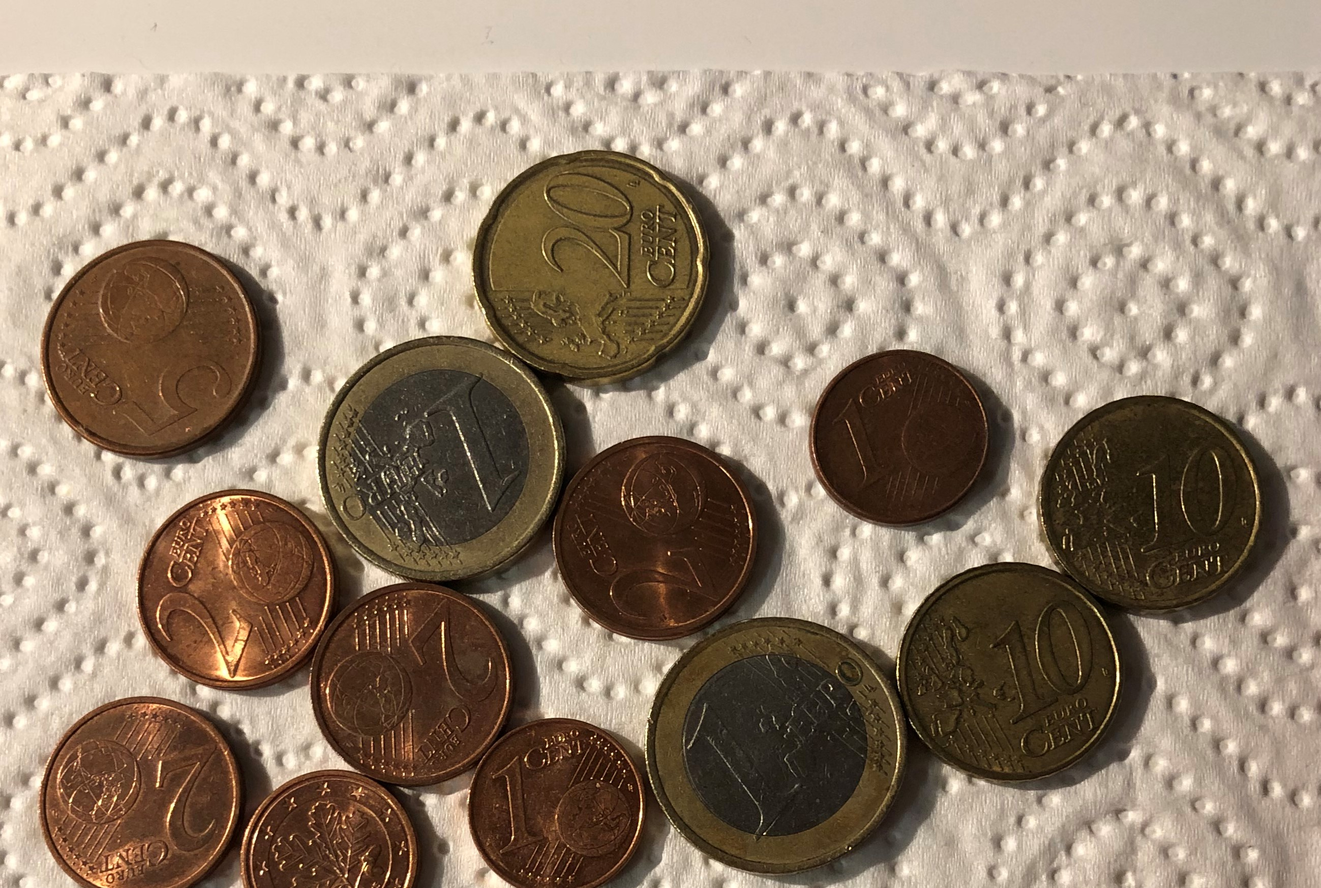1 cent: (465, 705, 647, 884), (809, 350, 991, 528), (241, 770, 418, 888)
1 euro: (646, 618, 908, 877), (318, 337, 566, 584)
10 cent: (897, 563, 1123, 783), (1036, 392, 1261, 612)
2 cent: (552, 436, 758, 642), (311, 583, 514, 789), (138, 490, 336, 691), (39, 697, 243, 888)
20 cent: (473, 151, 710, 387)
5 cent: (41, 240, 262, 460)
